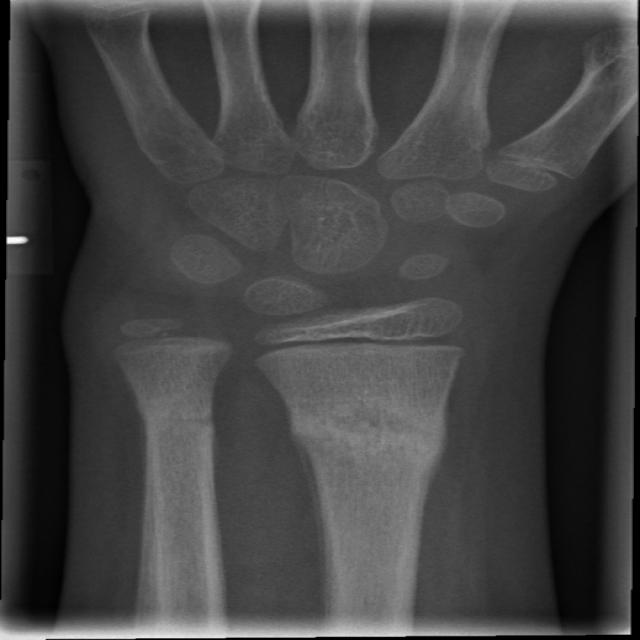radius fracture: (273, 379, 482, 556)
ulna fracture: (106, 367, 245, 560)
